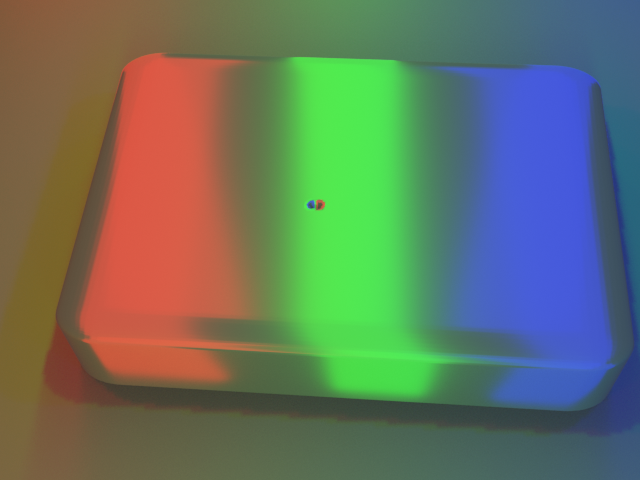dent: (298, 185, 338, 229)
